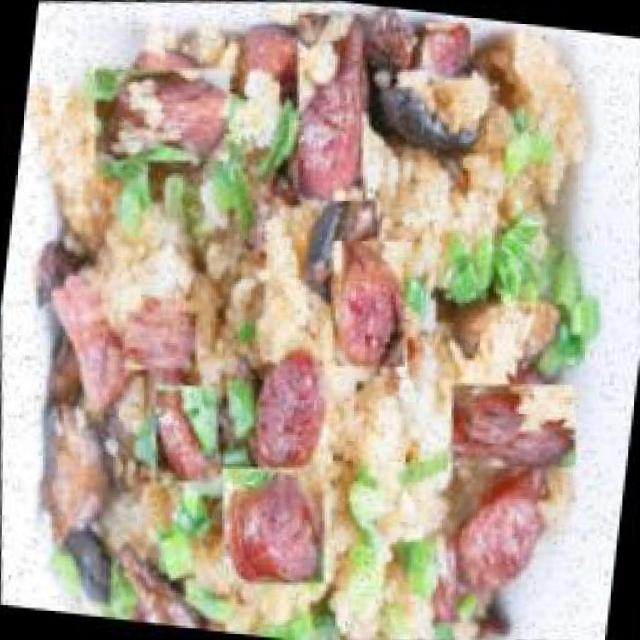chinese_sausage: (409, 466, 575, 640), (274, 3, 386, 208), (90, 44, 232, 185), (208, 453, 338, 595), (232, 336, 350, 491), (447, 360, 577, 490), (317, 230, 419, 374), (142, 377, 229, 488), (122, 302, 200, 381), (414, 16, 475, 86)
